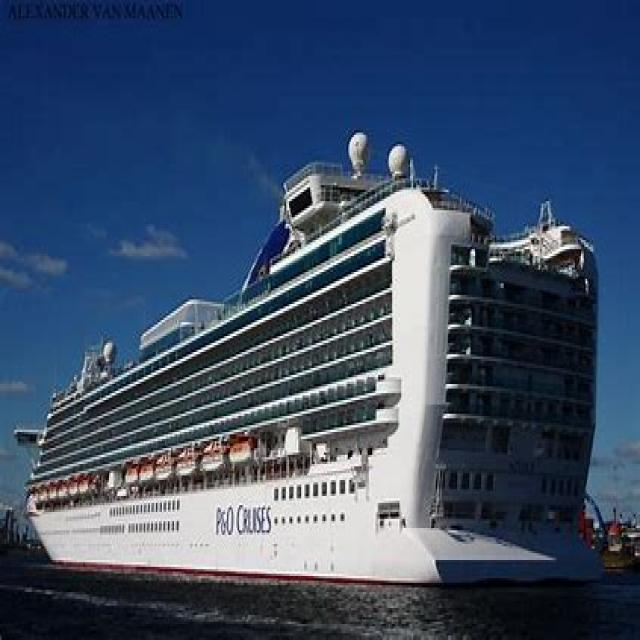PassengerShip: (10, 87, 640, 601)
